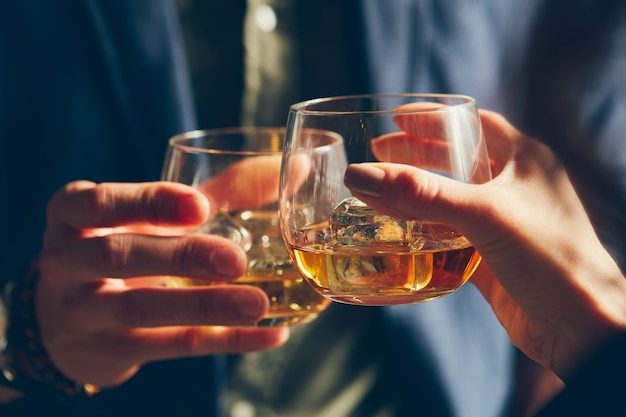alcohol: (283, 98, 494, 309), (163, 130, 347, 330)
